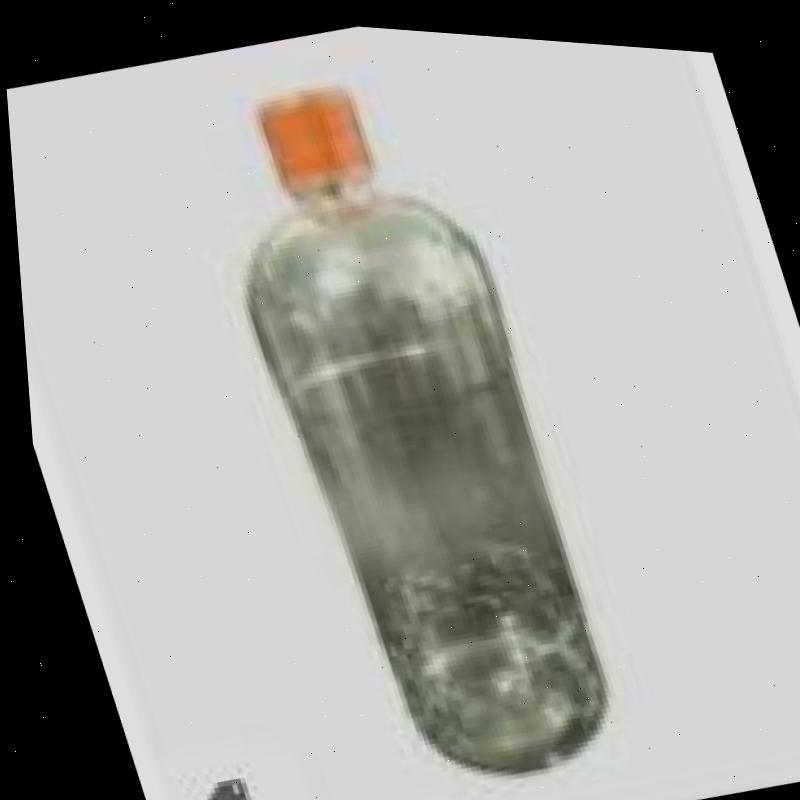botella: (168, 49, 630, 797)
